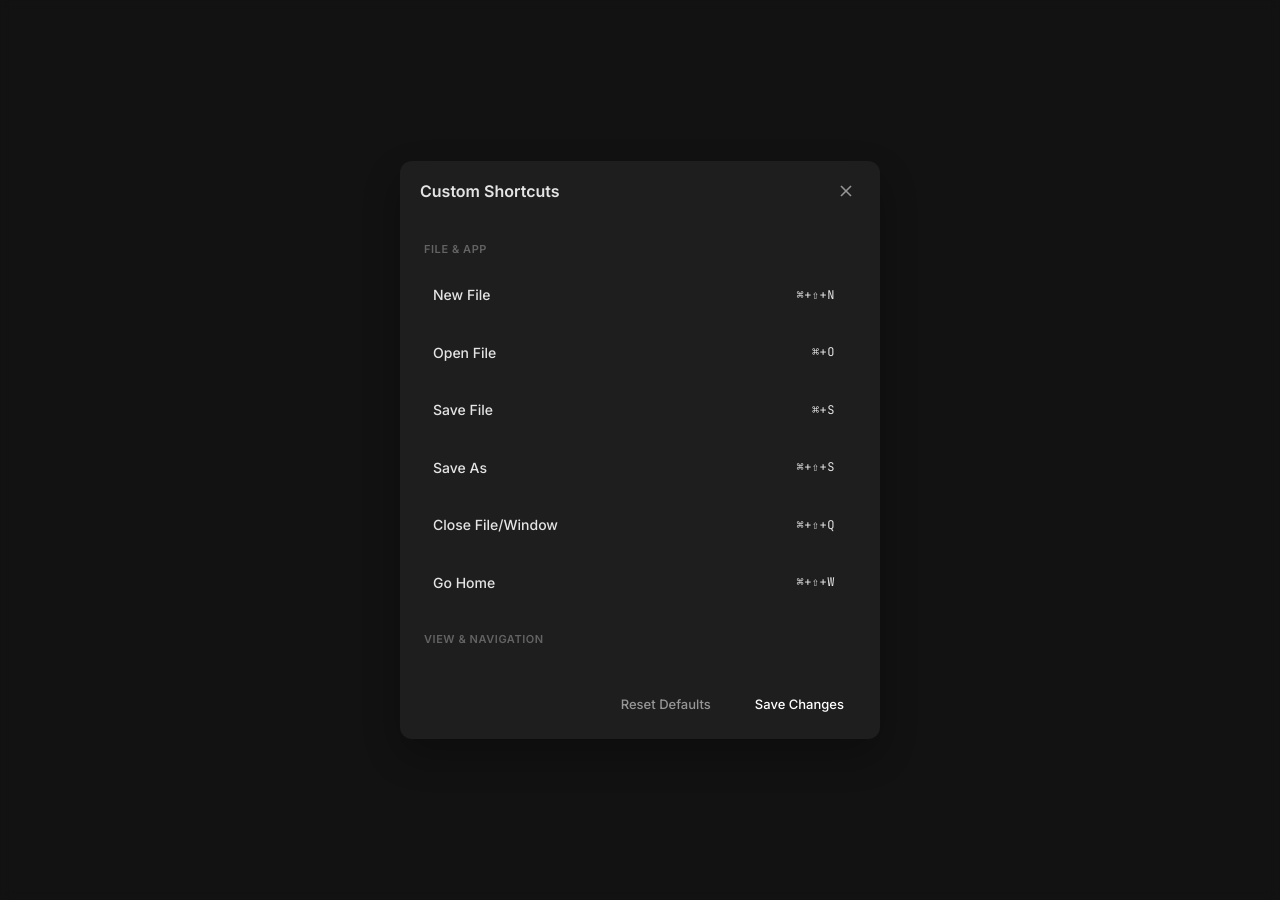
Scenario: ShortcutConfigModal.svelte › rejects conflicting shortcuts
Click the button with class "shortcut-btn" showing "⌘+⇧+N" at coordinates (777, 295), box left=707, top=279, right=847, bottom=310
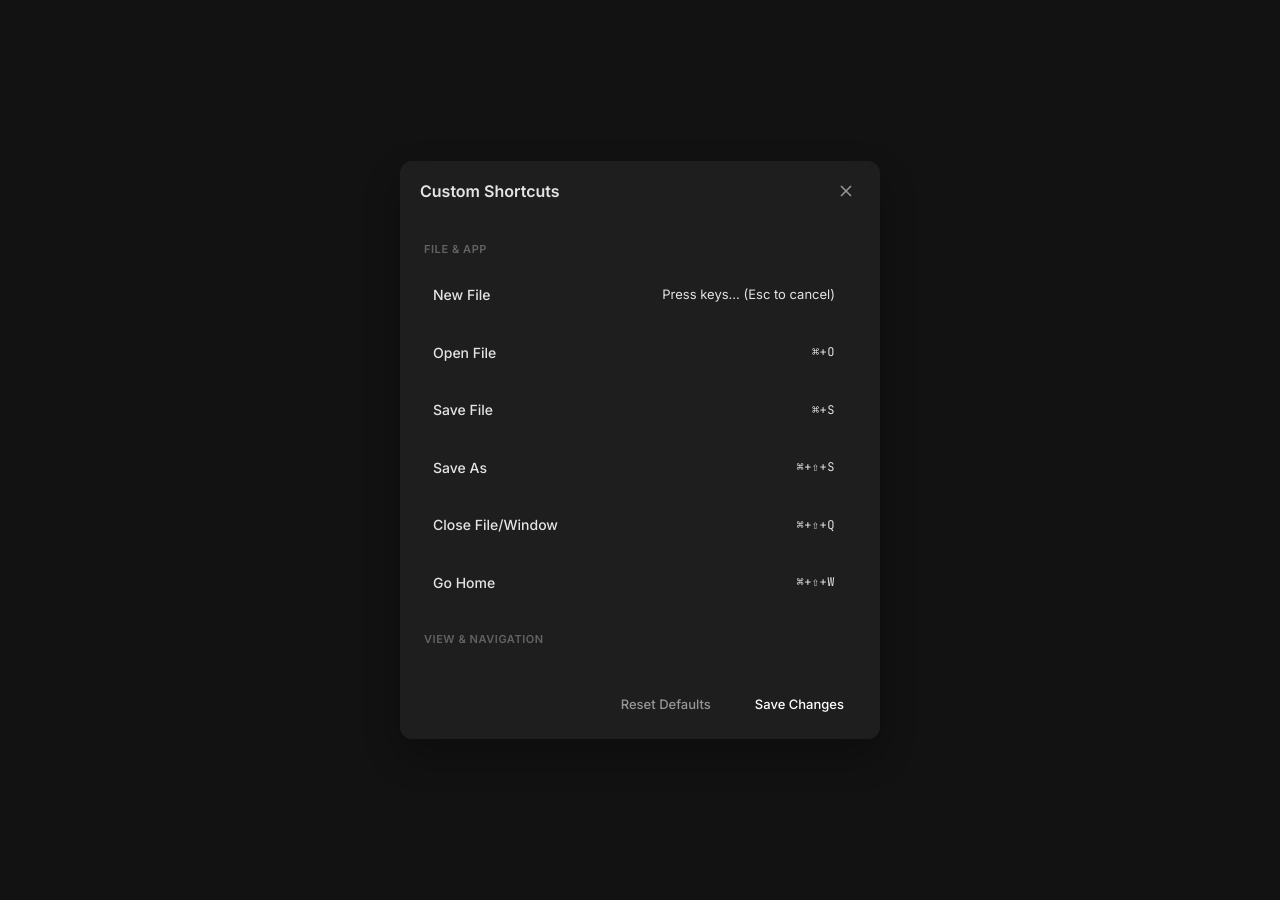
// Try to set 'CmdOrCtrl+S' which is used by "Save File"
Press s in the element with class "modal-content", box left=400, top=161, right=880, bottom=739
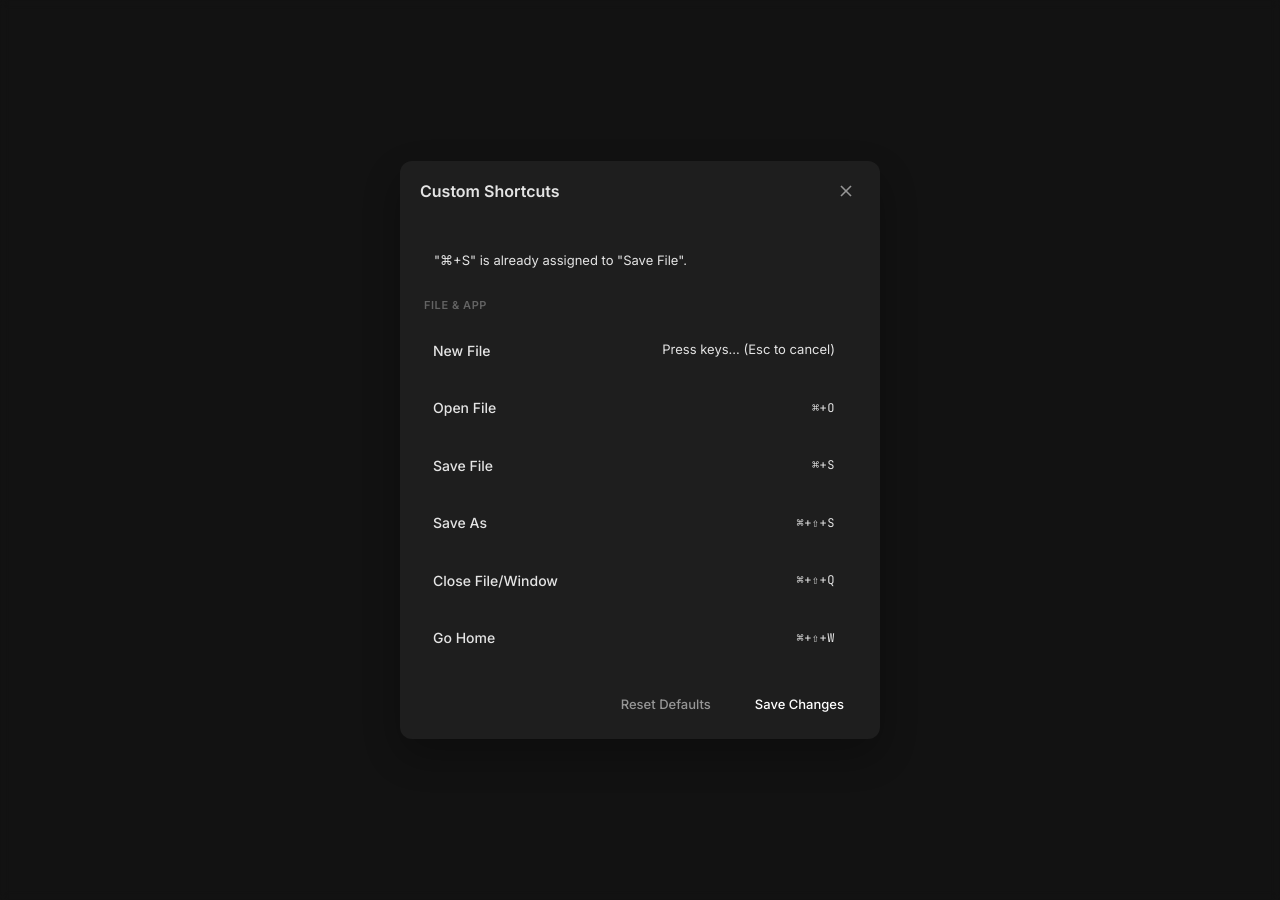
Expected: the text with class "conflict-alert" shows "is already assigned to \"Save File\"", left=434, top=252, right=687, bottom=268
